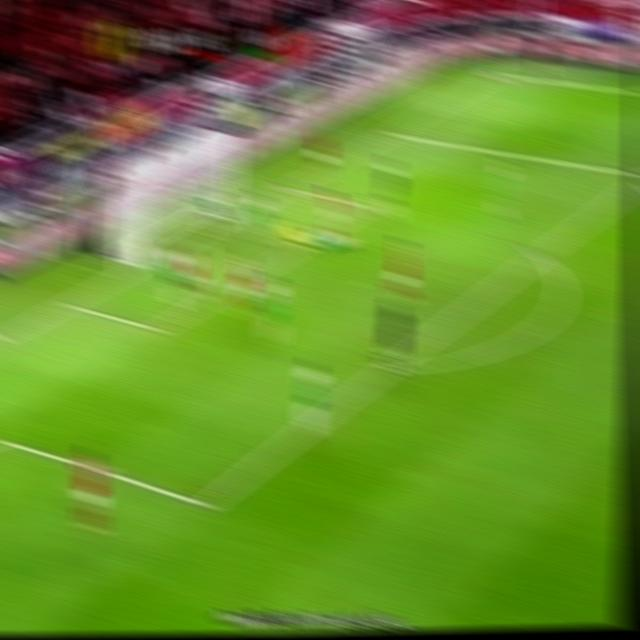bigarea_bottom_inner: (186, 484, 223, 520)
bigarea_top_outter: (376, 120, 402, 142)
bottom_arc_area_intersection: (371, 354, 401, 380)
corner: (481, 65, 511, 82)
smallarea_bottom_inner: (142, 311, 173, 344)
smallarea_bottom_outter: (49, 289, 79, 315)
smallarea_top_inner: (352, 194, 380, 214)
smallarea_top_outter: (272, 176, 300, 199)
top_arc_area_intersection: (526, 243, 552, 264)
